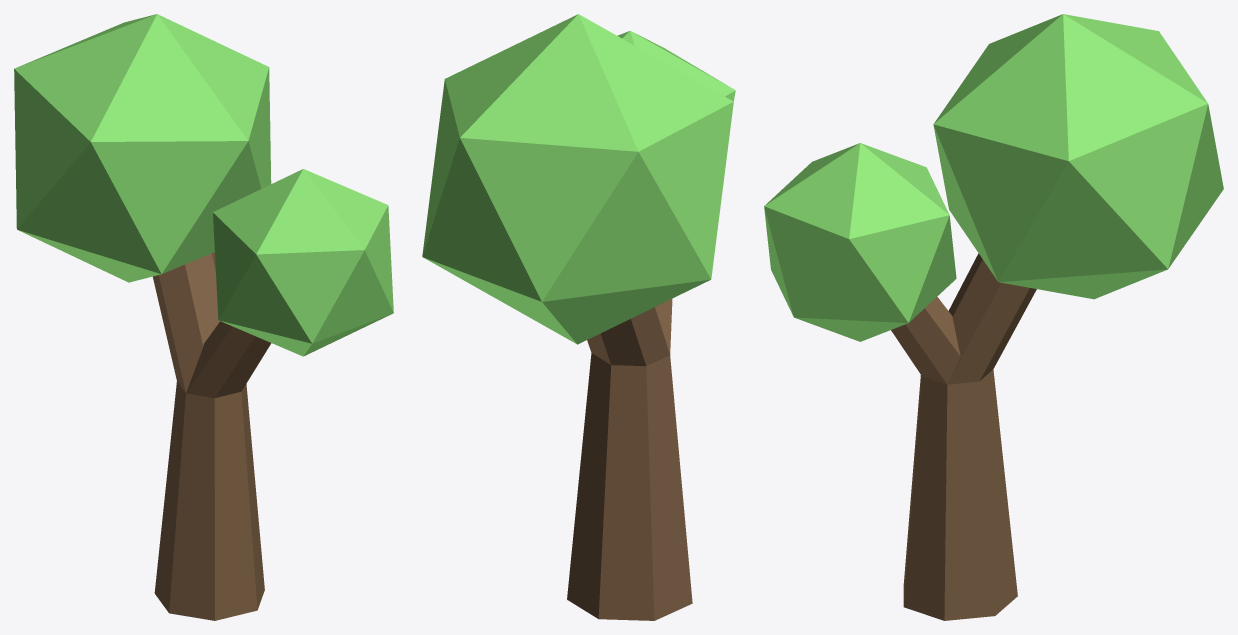
File: tree2.fbx
3 views of the same model, side by side, from view 1: azimuth 30°, elevation 25°; view 2: azimuth 150°, elevation 25°; view 3: azimuth 270°, elevation 25° (orthographic). The views are drawn at different scales.
Parts seen in each view (by area): view 1: tree2; view 2: tree2; view 3: tree2.
Part boxes in pixels (<box>): tree2: <box>14,14,393,620</box>; tree2: <box>422,14,735,620</box>; tree2: <box>764,14,1223,620</box>.
Size of the model in its own units: 221 by 448 by 322.
